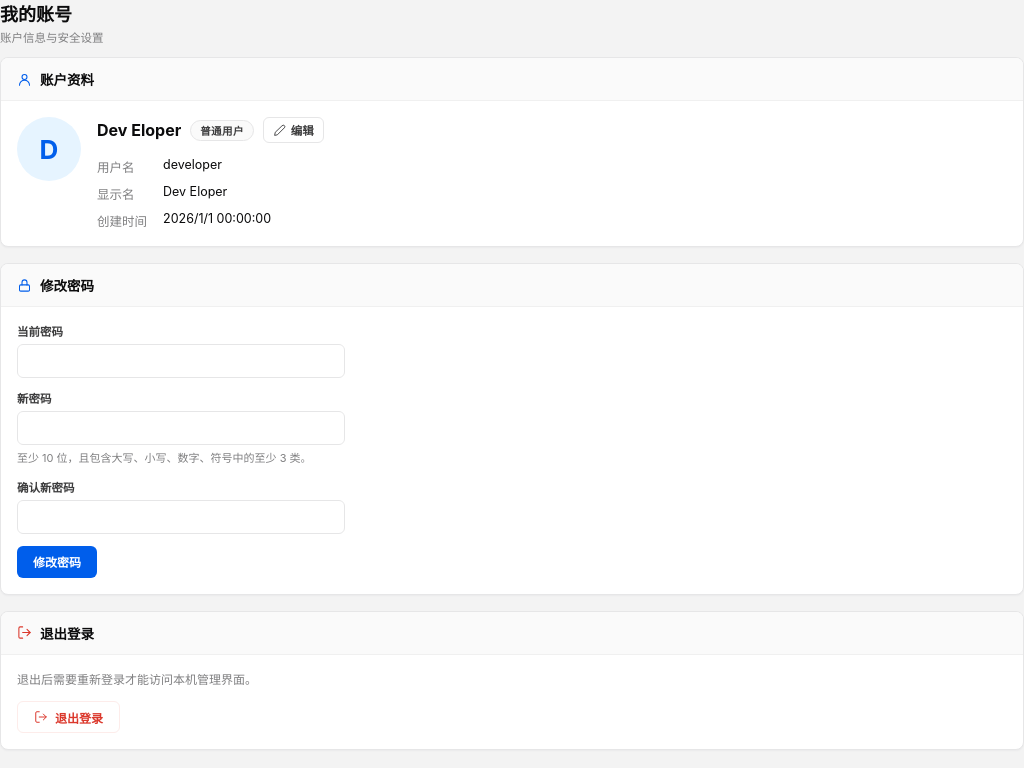
ProfilePanel password change › shows current-password errors from authFetch without expiring the session
Expected: the heading "账户资料" is shown, x1=40 y1=69 x2=94 y2=89
Type "Wrong-pass-2026" into the password field labelled "当前密码" at (181,361), box x1=17 y1=344 x2=345 y2=378
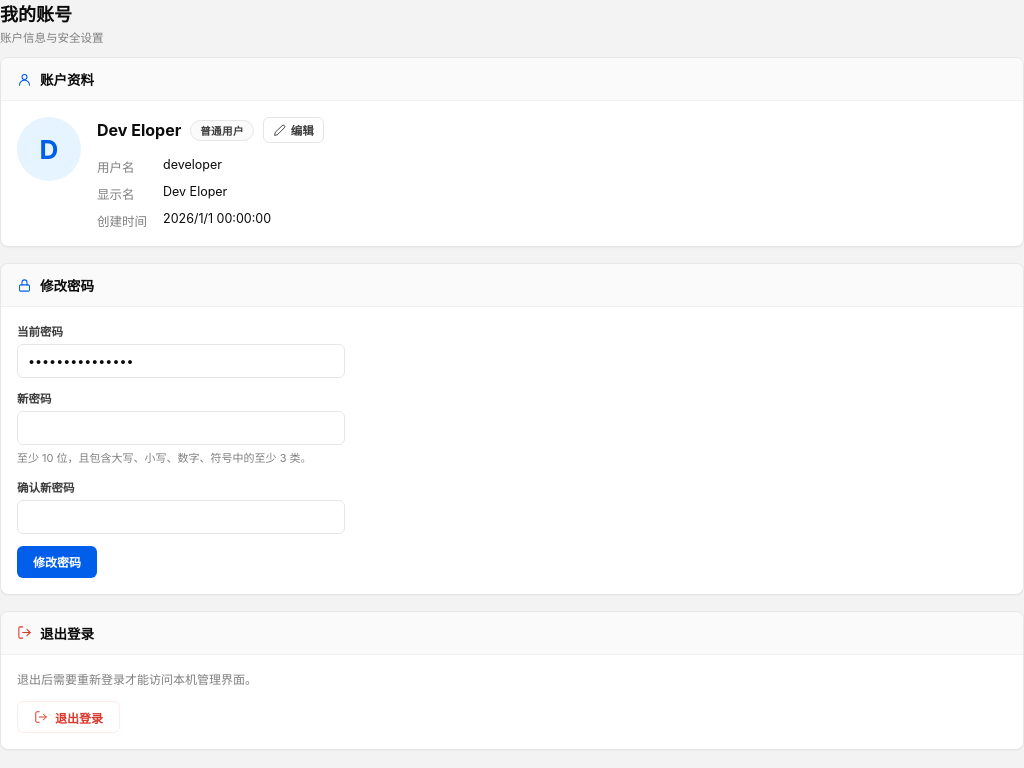
Type "Brand-new-2027" into the password field labelled "新密码" at (181,428), box x1=17 y1=411 x2=345 y2=445
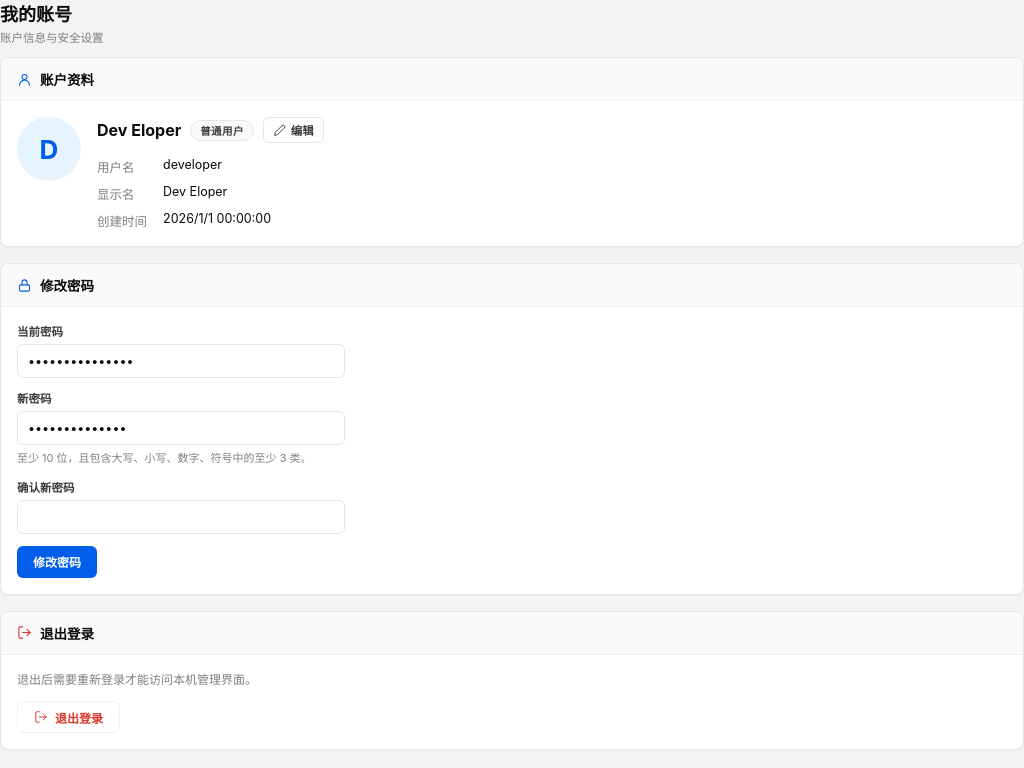
Type "Brand-new-2027" into the password field labelled "确认新密码" at (181,516), box x1=17 y1=500 x2=345 y2=534
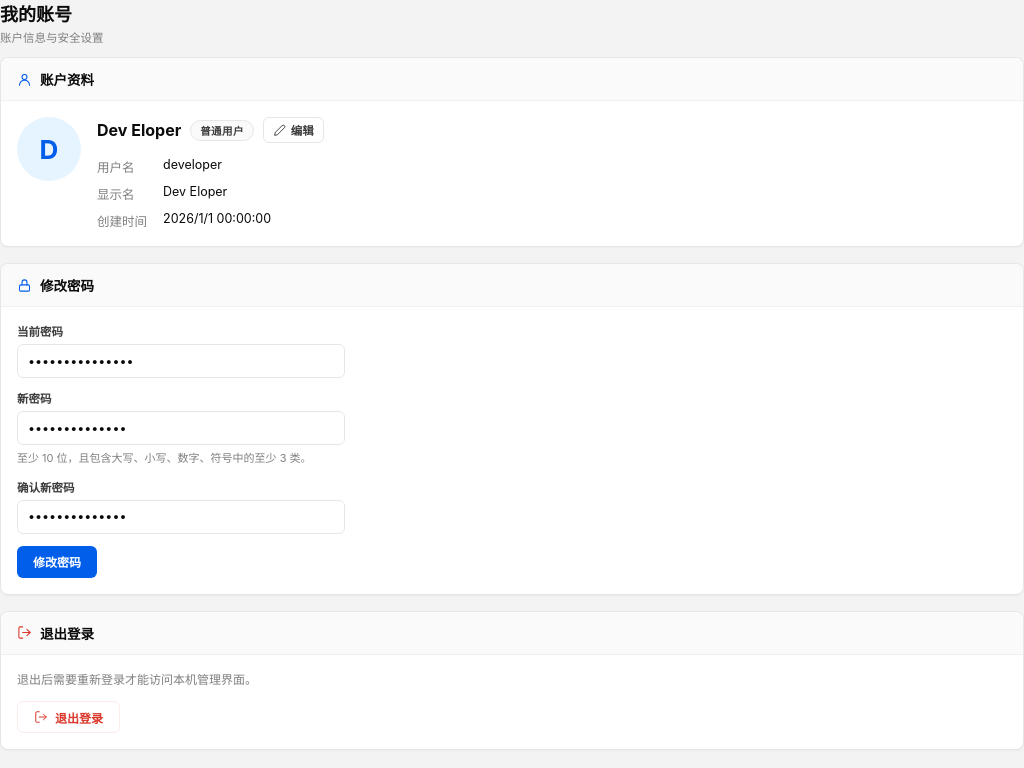
Click the button "修改密码" at (57,562), box x1=17 y1=546 x2=97 y2=578
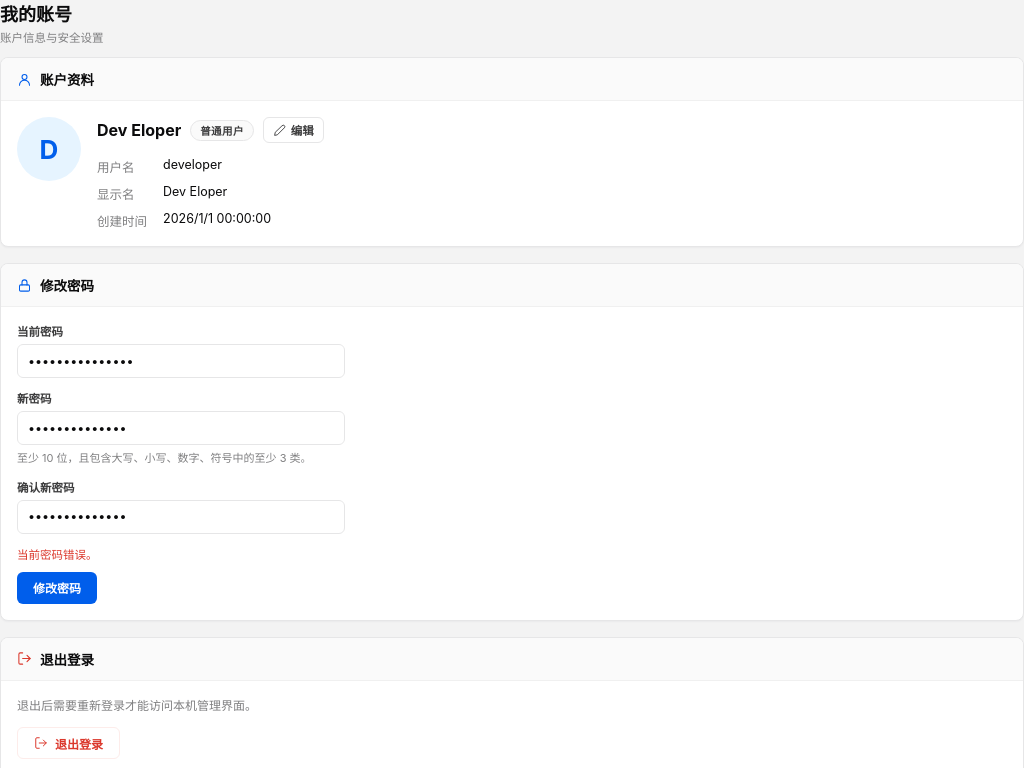
Now the text "当前密码错误。" is shown, box x1=17 y1=548 x2=98 y2=562
